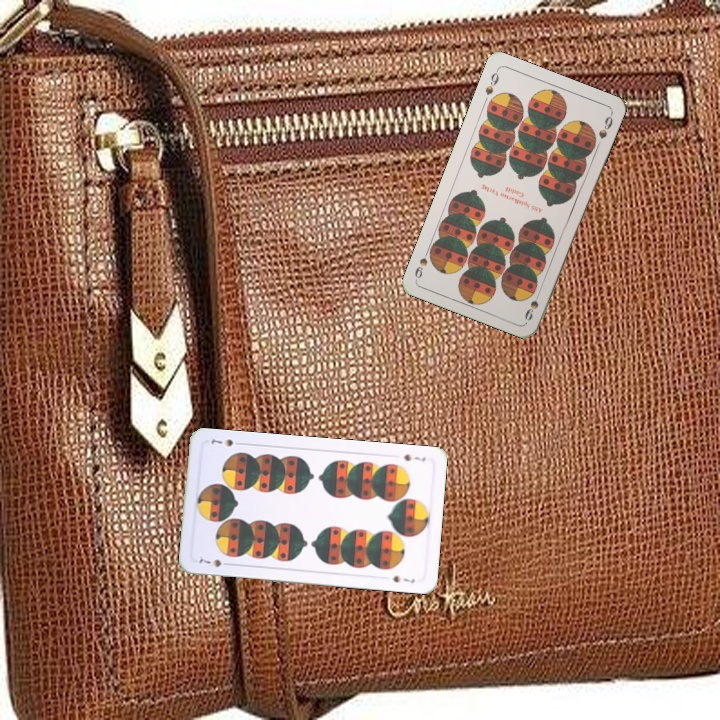S7: (194, 552, 234, 570), (400, 450, 428, 464)
S9: (521, 284, 544, 323), (481, 66, 502, 98)
